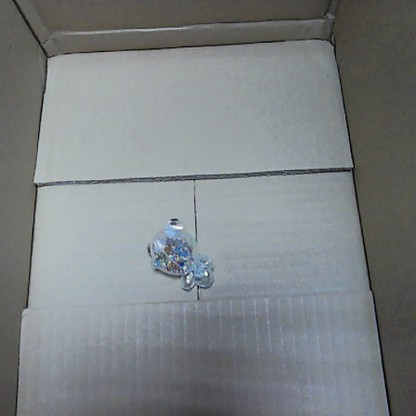whitefish: (140, 213, 216, 289)
